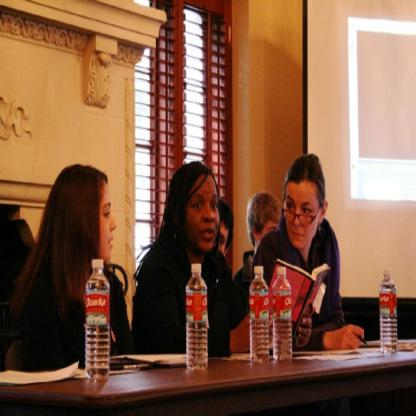face: (88, 184, 127, 261), (187, 177, 222, 251), (289, 182, 321, 245)
